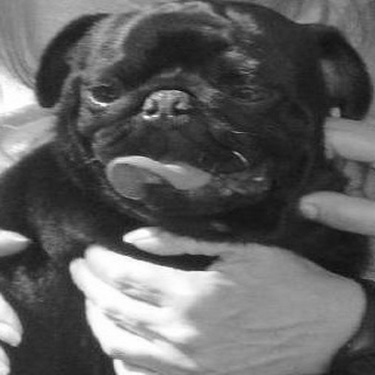dog: (1, 2, 359, 365)
